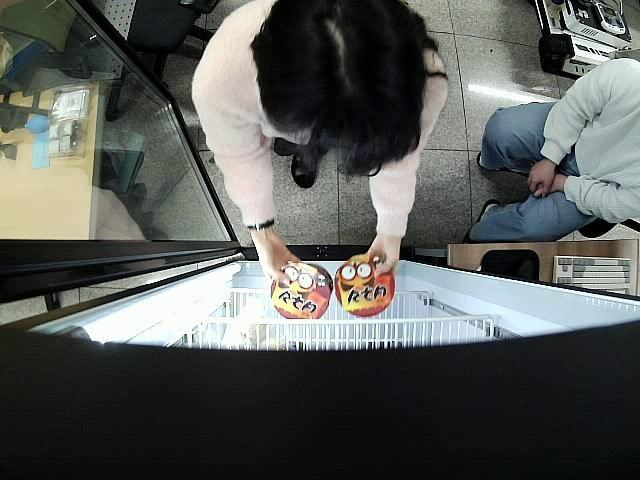05_nuguri_L: (269, 261, 333, 320), (335, 255, 395, 316)
